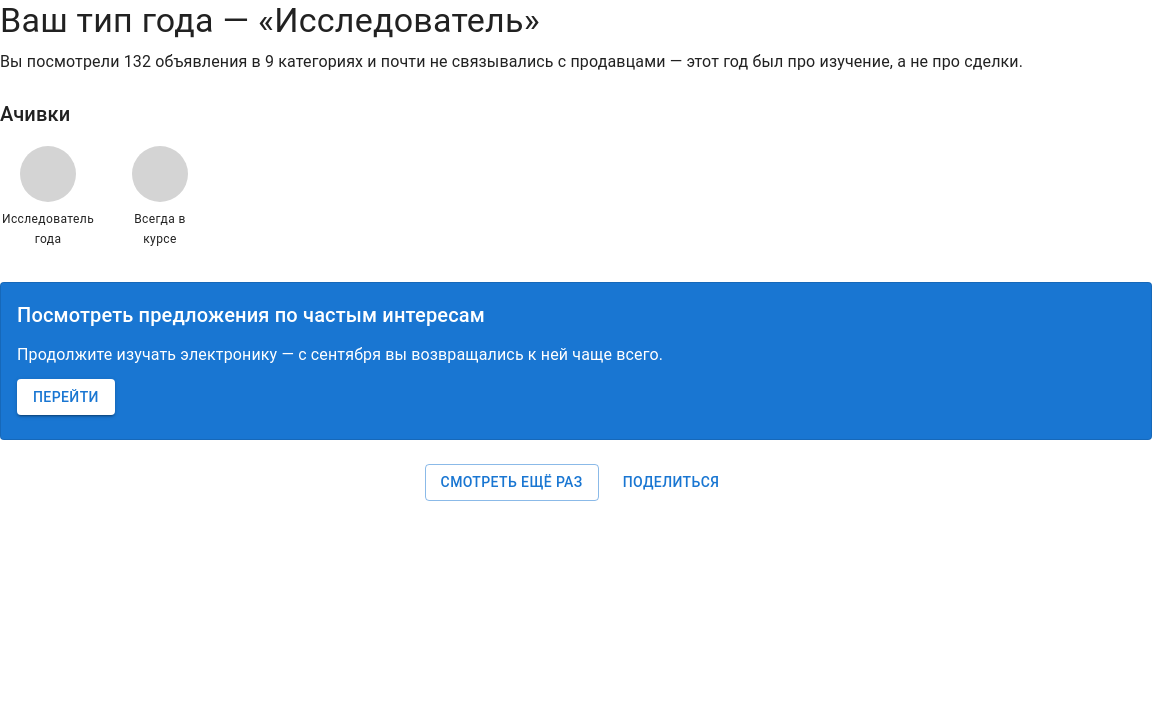
Test: opens an explanation dialog when an achievement badge is tapped
The width and height of the screenshot is (1152, 720).
What coordinates should you click on to do the following:
click the button "Исследователь года"
I would click on:
 (48, 198)
Its box is [0, 138, 96, 258].
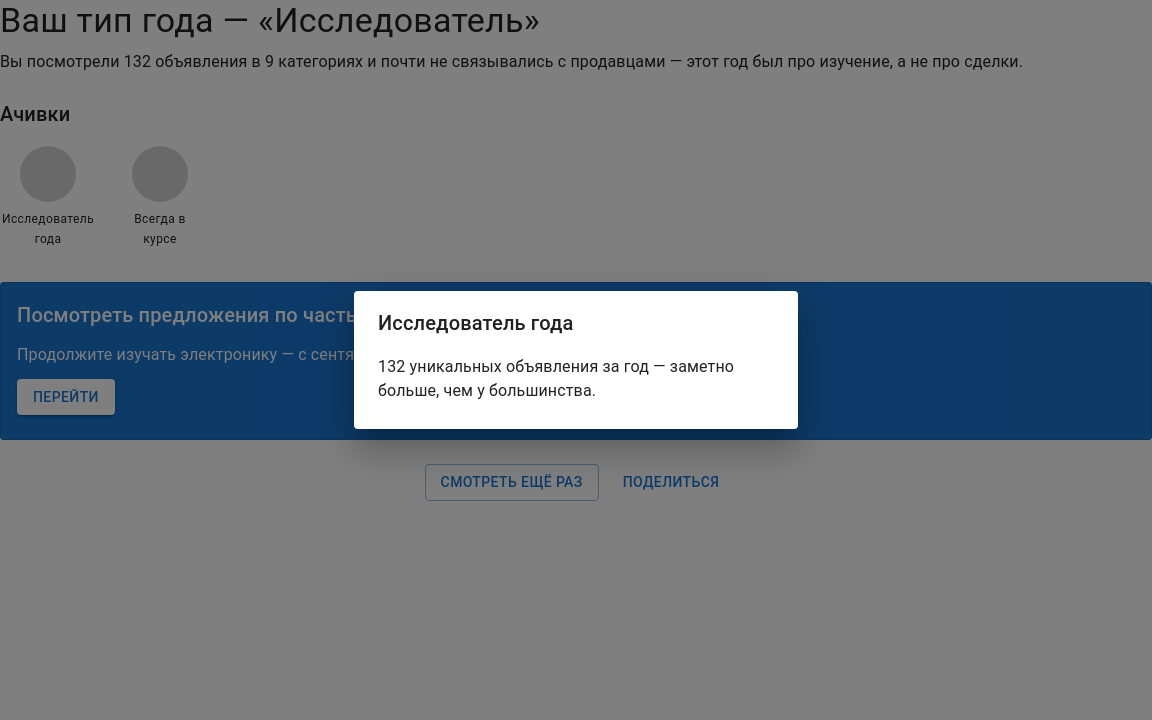
Check: the text "132 уникальных объявления за год — заметно больше, чем у большинства." is shown, box [378, 355, 774, 403]
